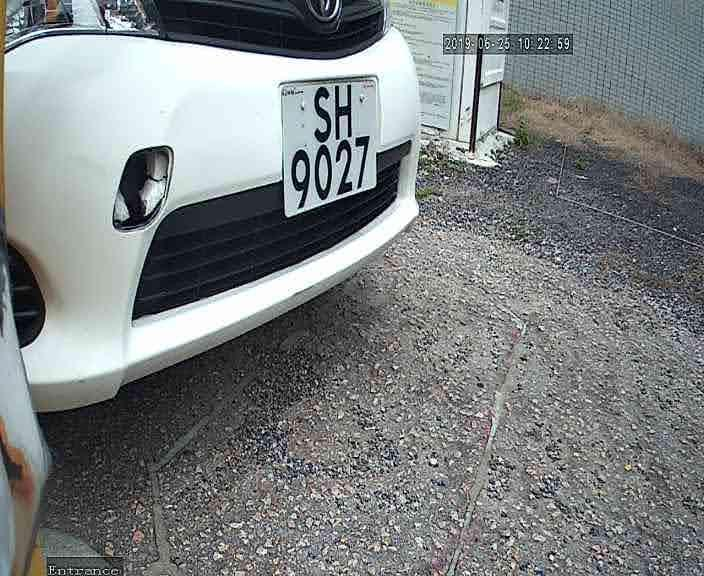privatecar: (1, 1, 452, 424)
